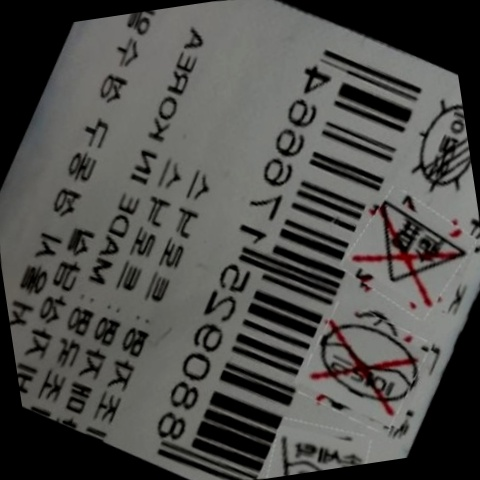DN_dry_clean: (310, 304, 426, 423)
hand_wash: (276, 417, 370, 476)
line_dry_in_shade: (403, 95, 475, 196)
non_chlorine_bleach: (360, 192, 473, 305)
